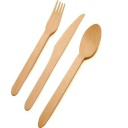fork: (15, 1, 66, 91)
